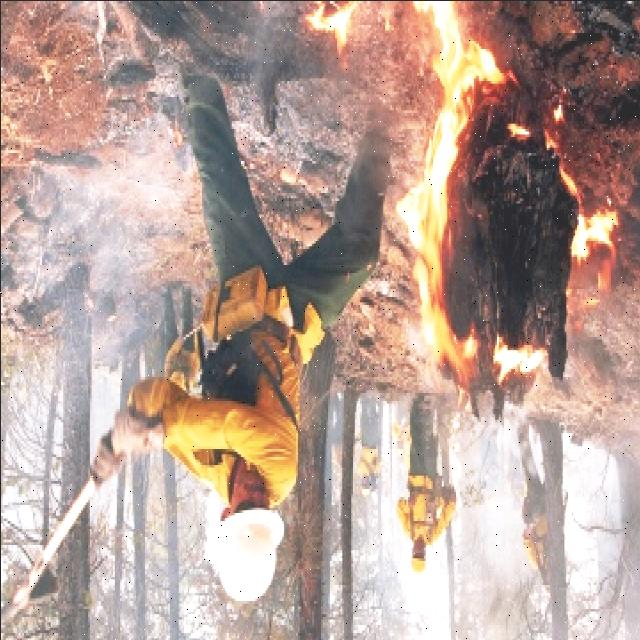api: (407, 14, 454, 356), (488, 338, 539, 383)
asap: (468, 433, 522, 599)
